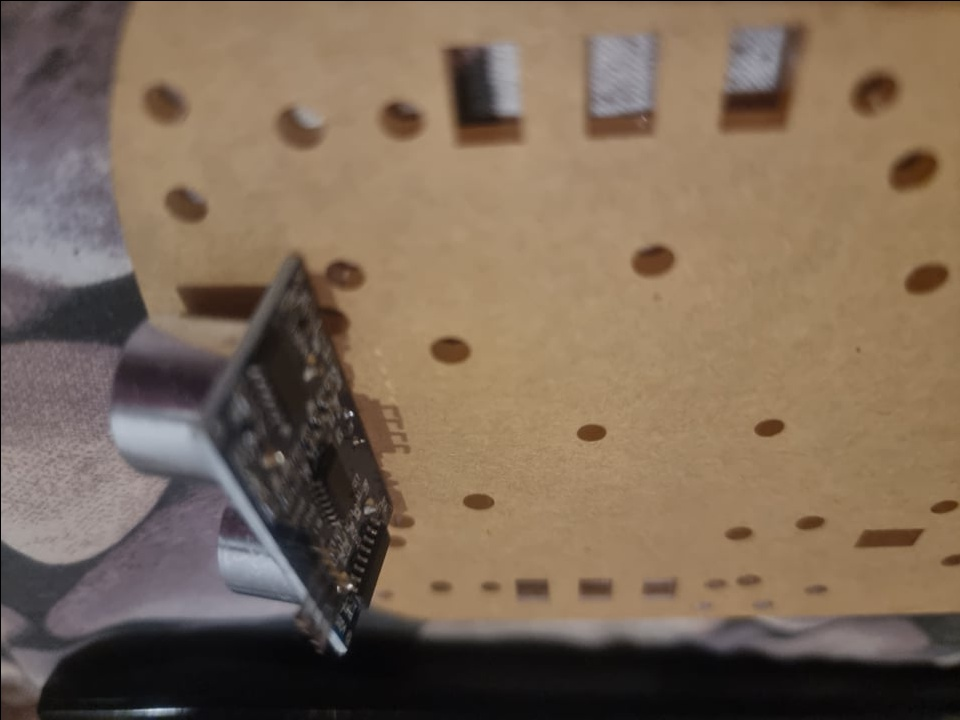SENSOR: (106, 252, 399, 654)
